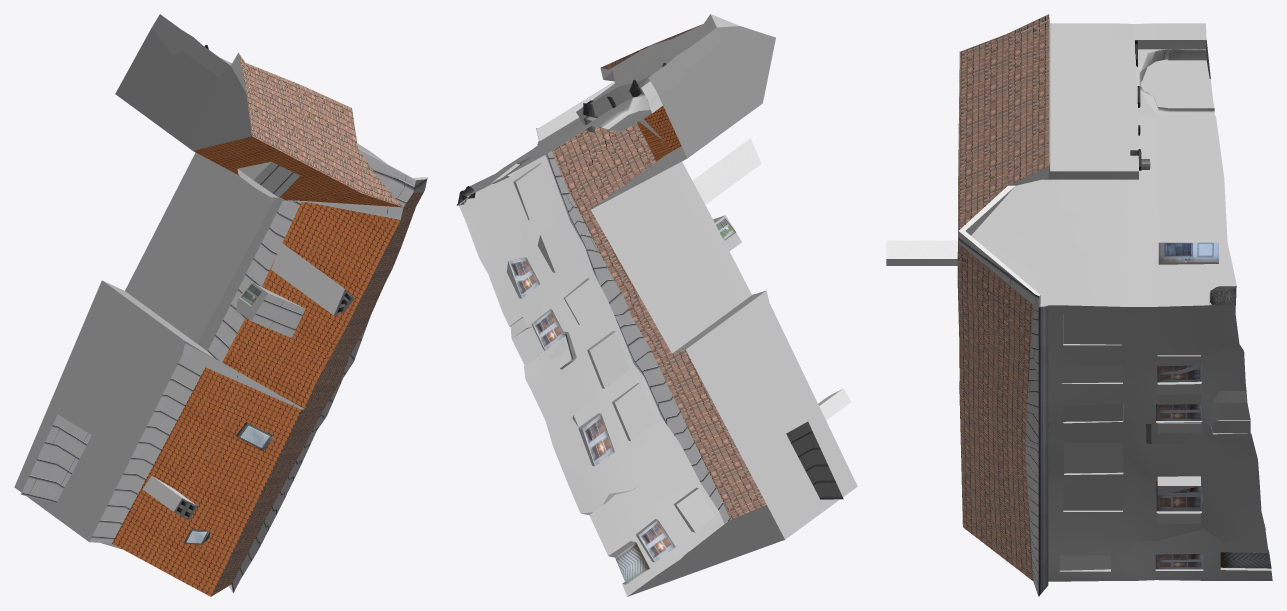
File: Sulevimagi_5-origo.obj
3 renders of one model, left to right at view 1: azimuth 30°, elevation 25°; view 2: azimuth 150°, elevation 25°; view 3: azimuth 270°, elevation 25°, orthographic. The views are drawn at different scales.
Parts seen in each view (by area): view 1: Sulevimagi_5; view 2: Sulevimagi_5; view 3: Sulevimagi_5.
Part boxes in pixels (left/top/right/bottom): Sulevimagi_5: left=14, top=14, right=427, bottom=596; Sulevimagi_5: left=456, top=14, right=857, bottom=596; Sulevimagi_5: left=886, top=14, right=1272, bottom=596.
Size of the model in its own units: 15.94 by 22.5 by 13.39.
